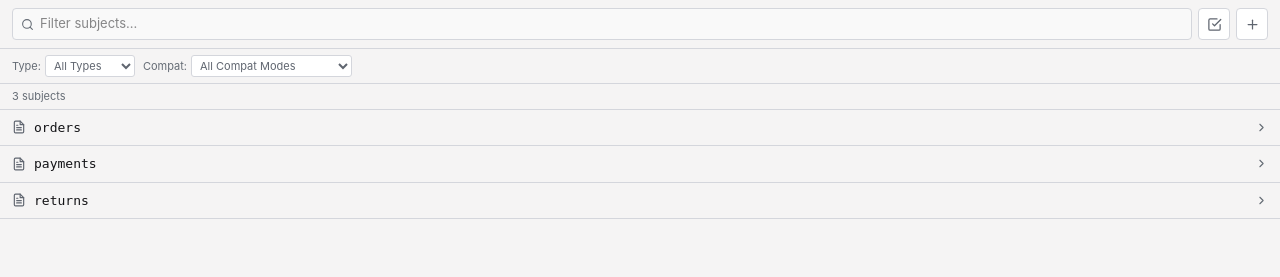
it: [@schema-list-coverage] bulk mode — enter and exit › clicking a subject in bulk mode toggles its selection (not loadSchemaDetail)
Click the button named "enter bulk selection mode": {"x": 1214, "y": 24} left=1198, top=8, right=1230, bottom=40
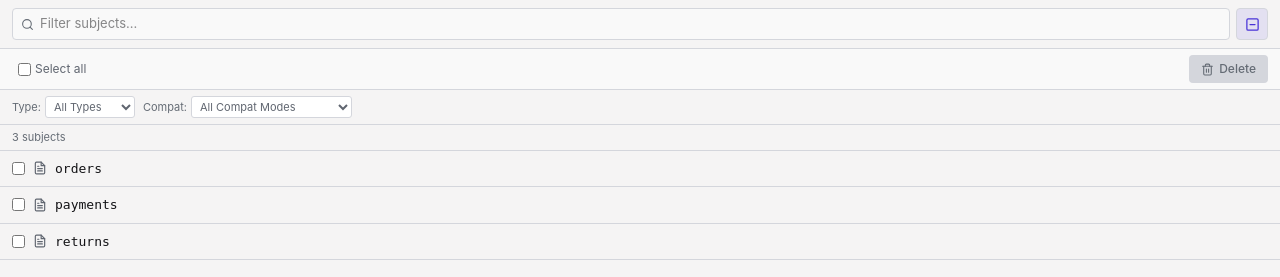
Click a subject
Click the text "orders": {"x": 78, "y": 168} left=55, top=160, right=102, bottom=176
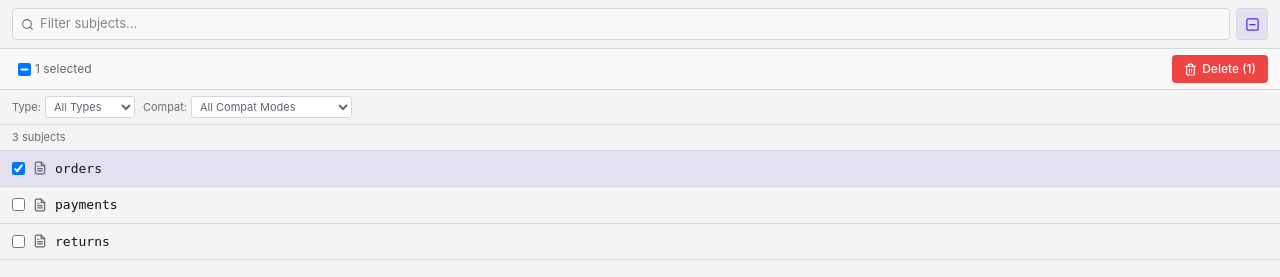
Expected: the text "1 selected" is shown, left=35, top=60, right=92, bottom=78
